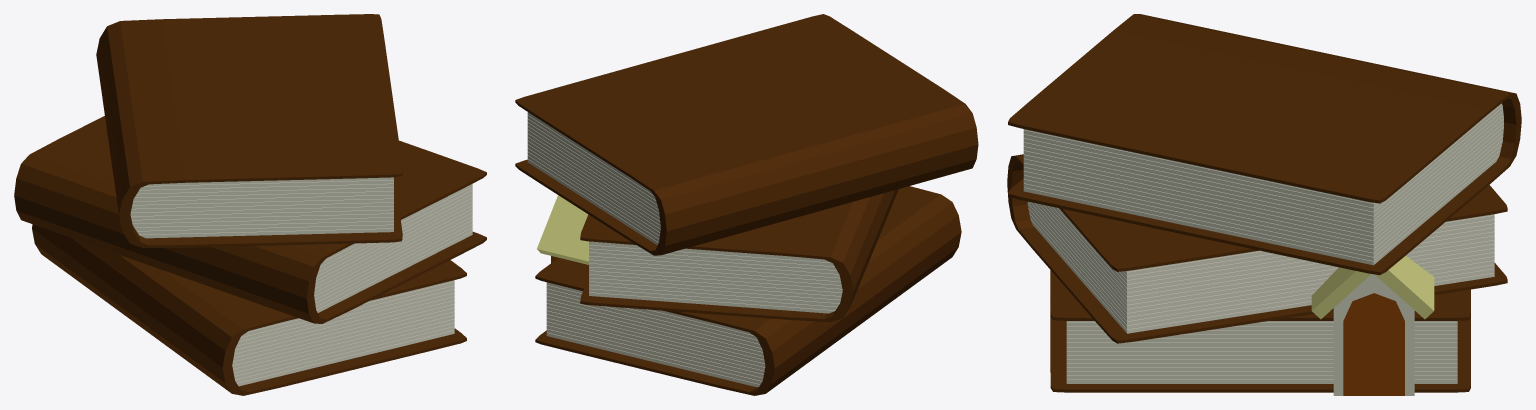
The model's file is Library.fbx.
3 views of the same model, side by side, from view 1: azimuth 30°, elevation 25°; view 2: azimuth 150°, elevation 25°; view 3: azimuth 270°, elevation 25° (orthographic). The views are drawn at different scales.
Parts seen in each view (by area): view 1: Library; view 2: Library; view 3: Library.
Boxes of the visible parts, <box> form: Library: <box>14,14,486,395</box>; Library: <box>515,14,978,395</box>; Library: <box>1007,14,1521,395</box>.
Size of the model in its own units: 817 by 432 by 900.
